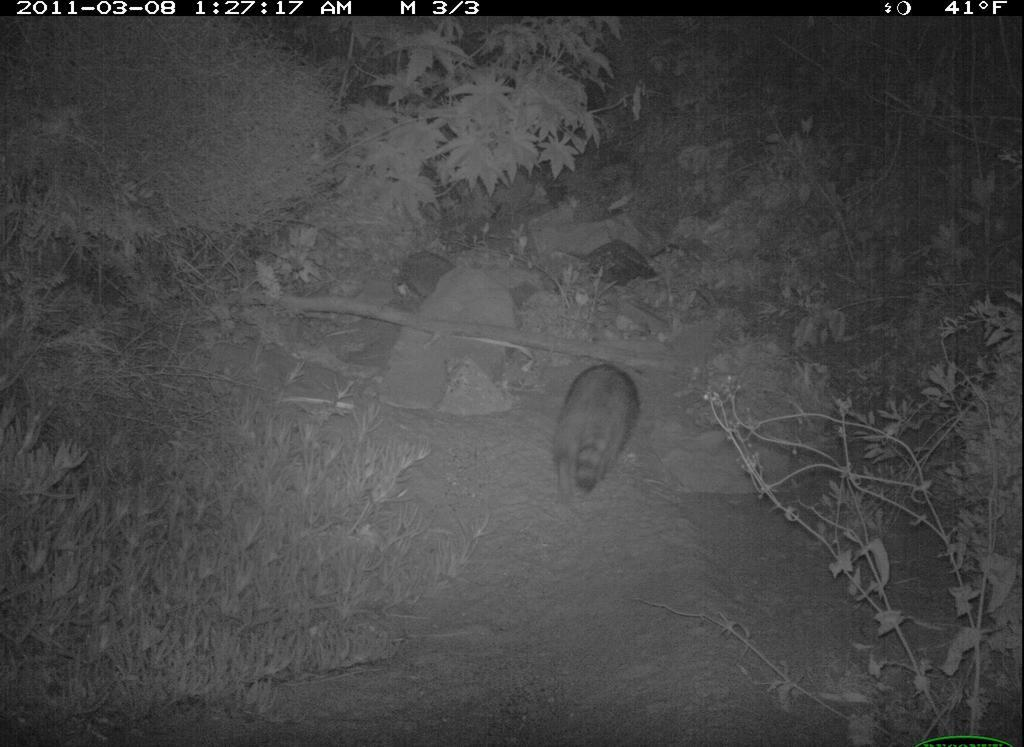raccoon: (548, 363, 646, 504)
